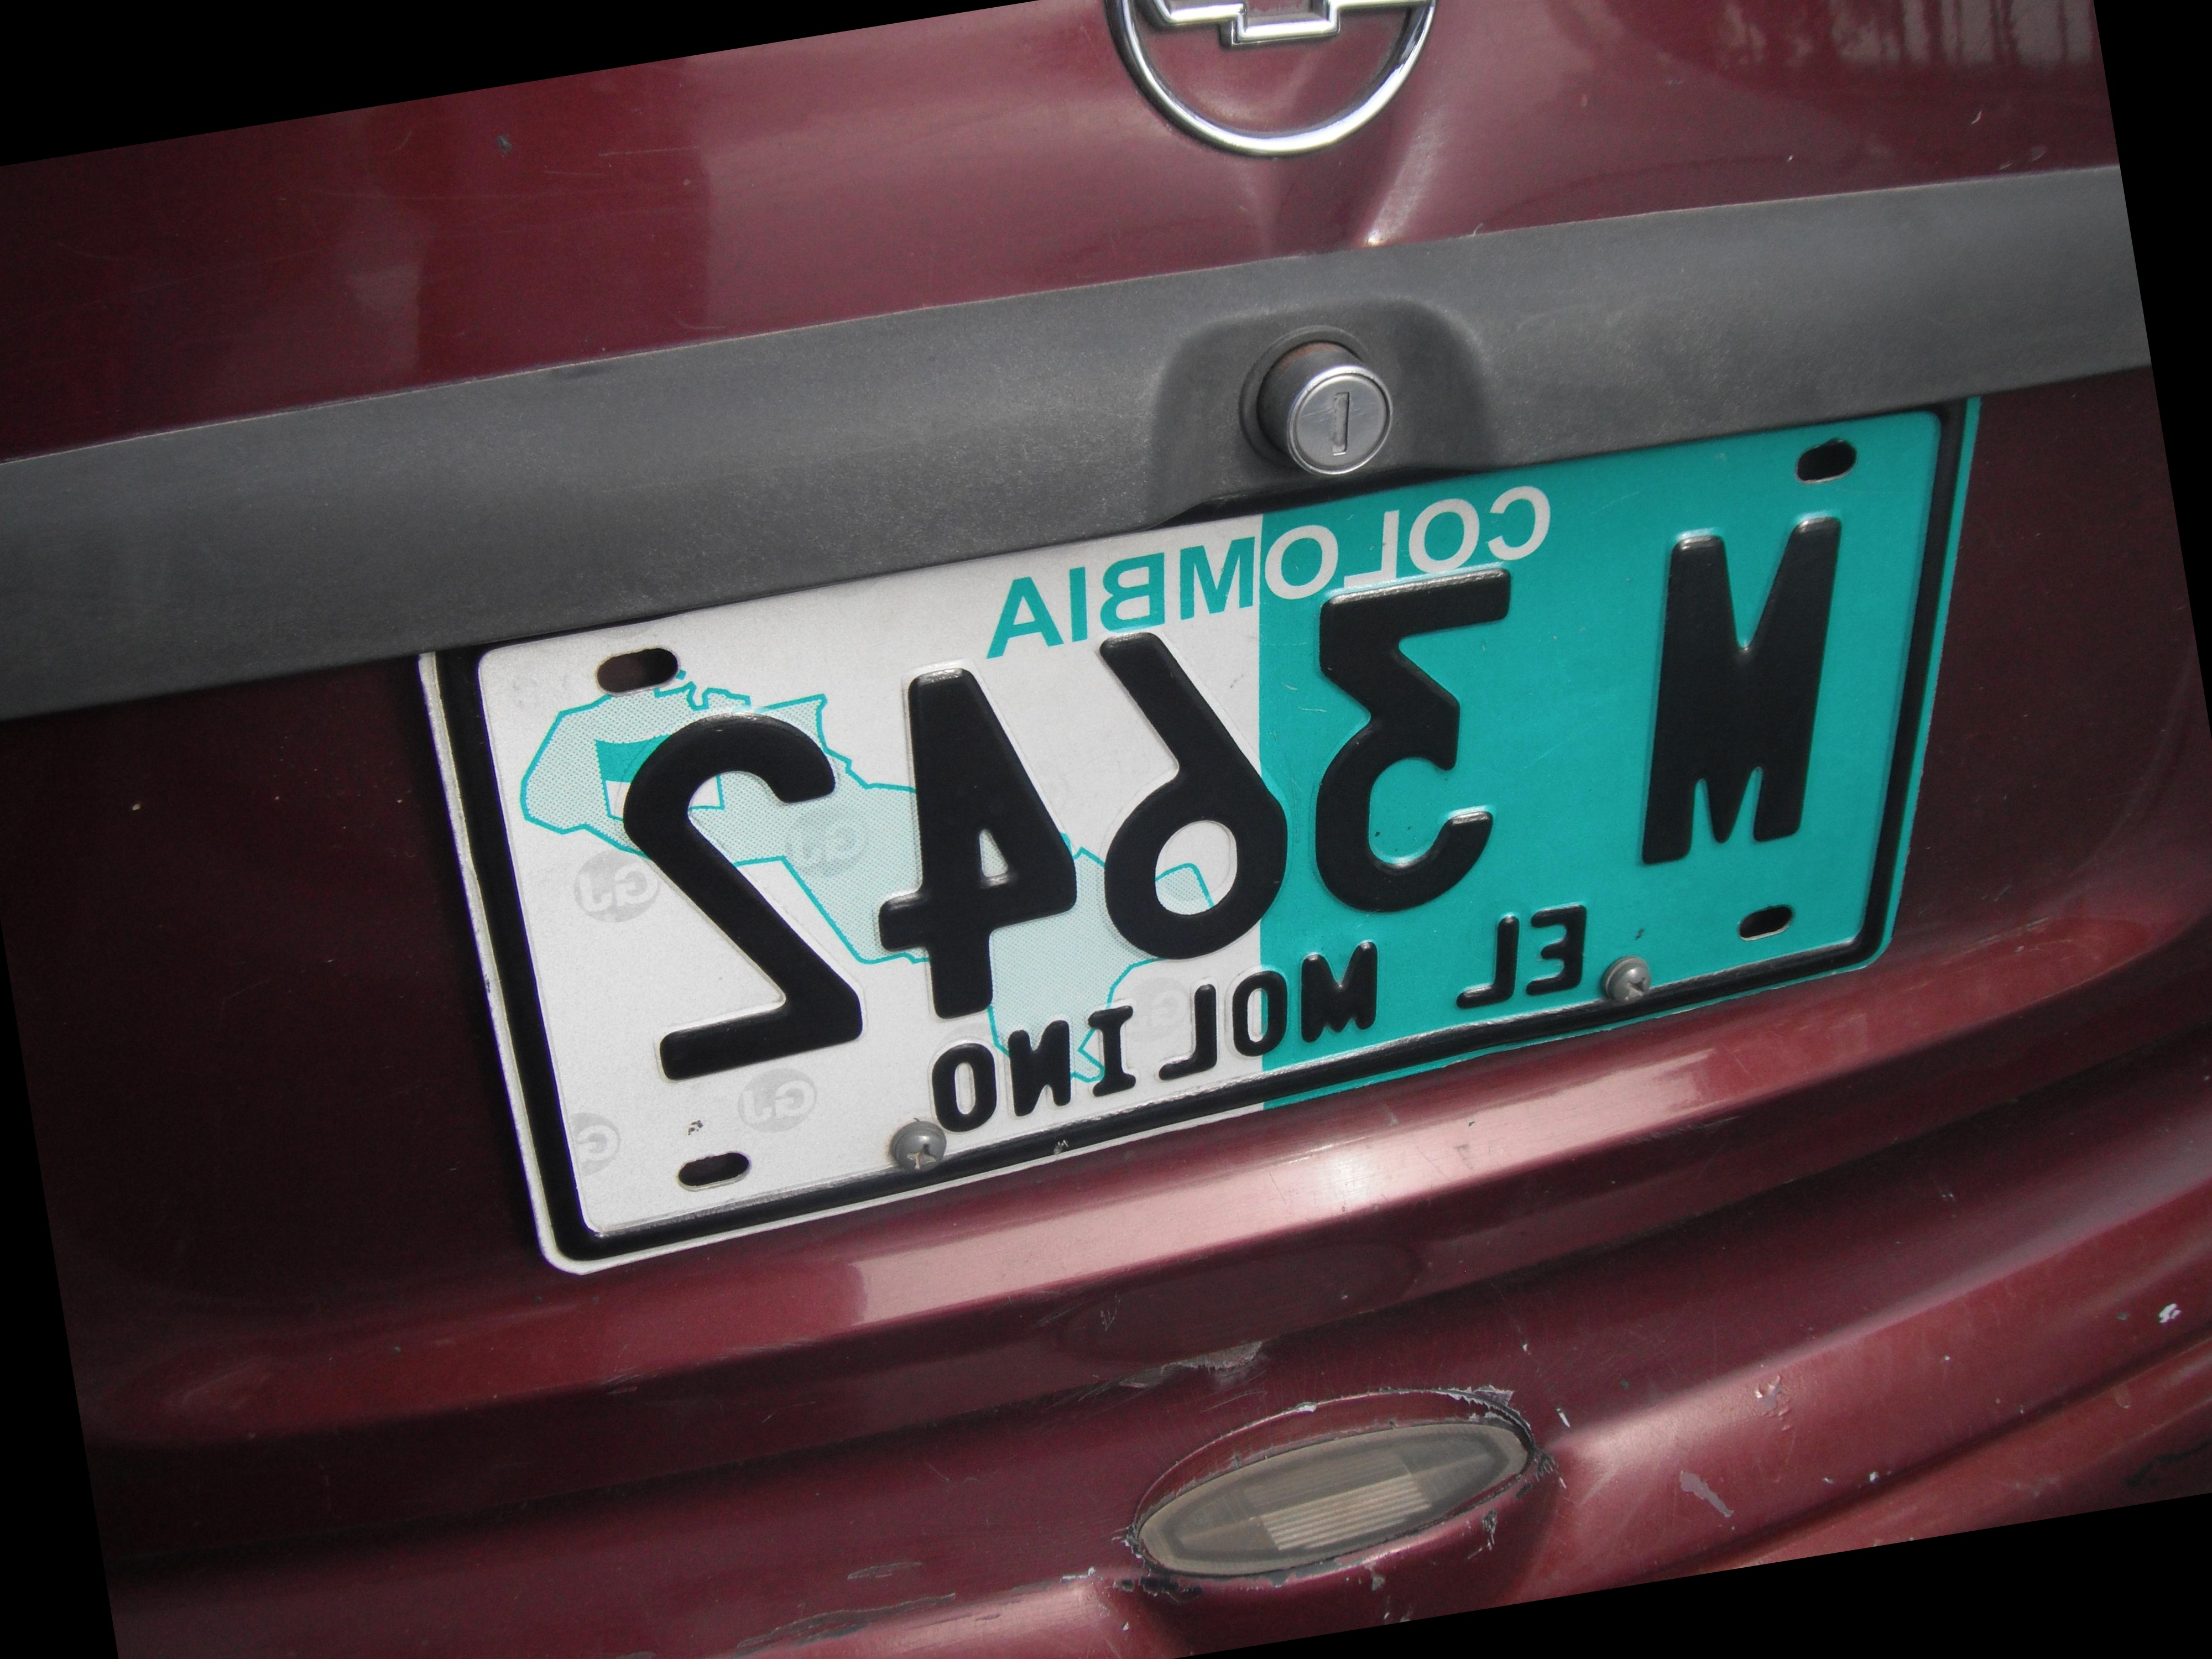placas: (409, 377, 2098, 1301)
